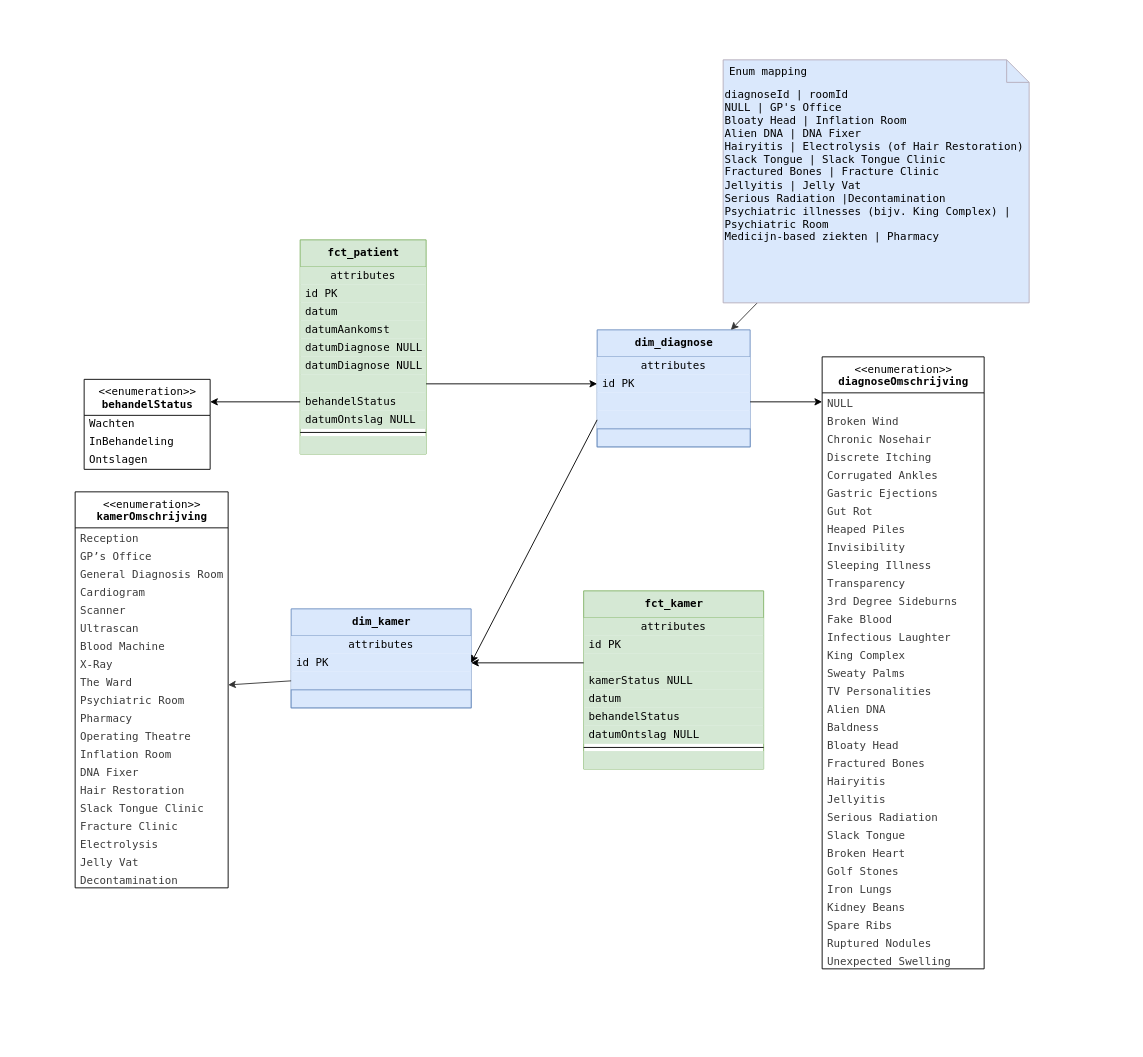
The diagram is 1143 pixels wide and 1057 high, and some of its shapes have lost their labels. Each missing label, with the centre of its shape:
diagnoseId NULL: the point at 363,383
diagnoseOmschrijving: the point at 673,401
kamerOmschrijving: the point at 381,680
kamerOmschrijvingId FK: the point at 673,662
roomId FK: the point at 673,419
